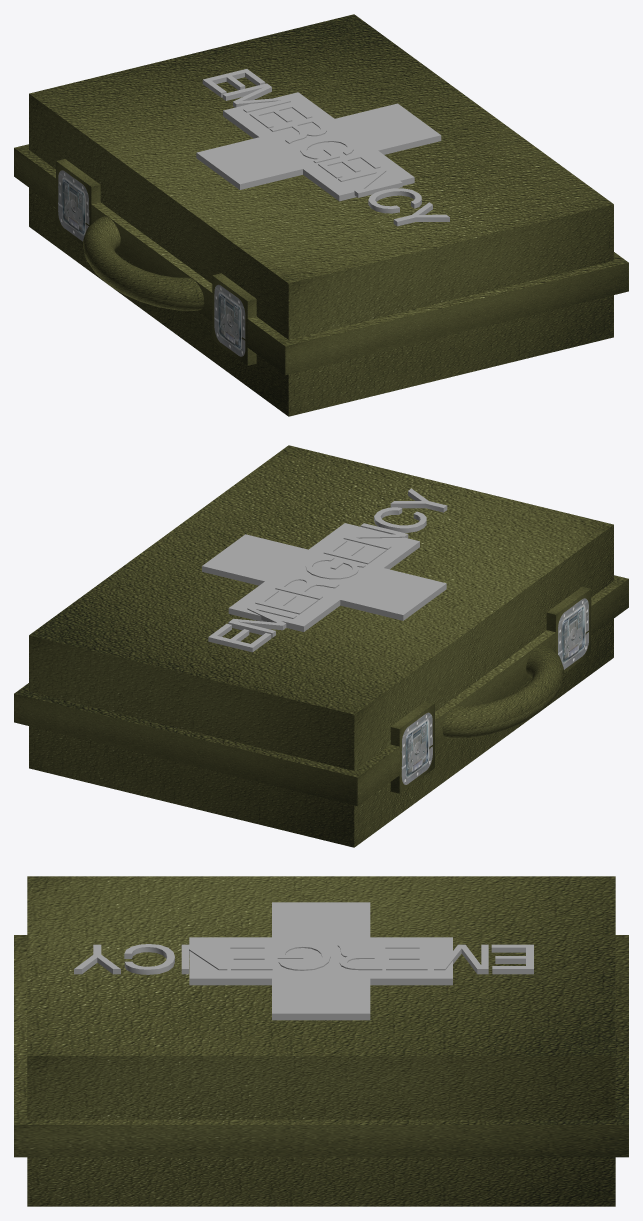
Rendered from health-pack.obj.
The picture shows the model from 3 angles, top to bottom: view 1: azimuth 30°, elevation 25°; view 2: azimuth 150°, elevation 25°; view 3: azimuth 270°, elevation 25°; orthographic projection. The views are drawn at different scales.
Visible parts, largest first — view 1: Med_Pack, Box1, Merged_Meshes, First_Aid, Torus, Box6, Box5, Box4, Box3; view 2: Med_Pack, Box1, Merged_Meshes, First_Aid, Torus, Box5, Box6, Box3, Box4; view 3: Med_Pack, Box1, Merged_Meshes, First_Aid.
Boxes of the visible parts, x1,y1,x2,y2 form: Med_Pack: (29,14,613,416); Box1: (14,144,628,375); Merged_Meshes: (196,92,441,201); First_Aid: (202,69,449,226); Torus: (83,216,204,310); Box6: (214,284,245,356); Box5: (58,170,89,241); Box4: (212,273,256,365); Box3: (56,159,100,245); Med_Pack: (29,445,613,847); Box1: (14,575,628,806); Merged_Meshes: (202,523,446,631); First_Aid: (208,488,447,652); Torus: (442,644,563,738); Box5: (401,712,432,784); Box6: (558,598,588,669); Box3: (390,701,434,793); Box4: (546,586,591,673); Med_Pack: (27,876,615,1206); Box1: (14,935,628,1157); Merged_Meshes: (189,902,452,1020); First_Aid: (74,944,533,974).
Bounding box in the file's own units: 1.42 × 0.4874 × 1.71.
Materials: 3 (2 with a texture image).
